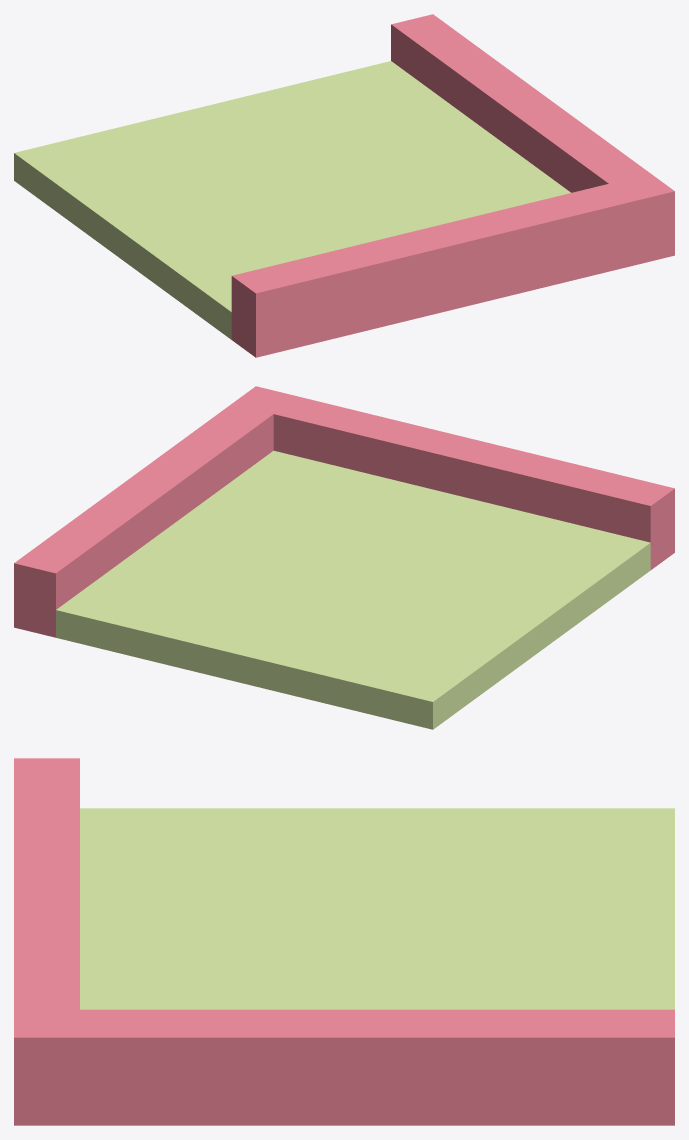
Rendered from corner.fbx.
The picture shows the model from 3 angles, top to bottom: view 1: azimuth 30°, elevation 25°; view 2: azimuth 150°, elevation 25°; view 3: azimuth 270°, elevation 25°; orthographic projection. The views are drawn at different scales.
Parts seen in each view (by area): view 1: corner; view 2: corner; view 3: corner.
Part boxes in pixels (<box>): corner: <box>14,14,674,357</box>; corner: <box>14,386,674,729</box>; corner: <box>14,758,674,1125</box>.
Size of the model in its own units: 99.99 by 14.67 by 99.99.
